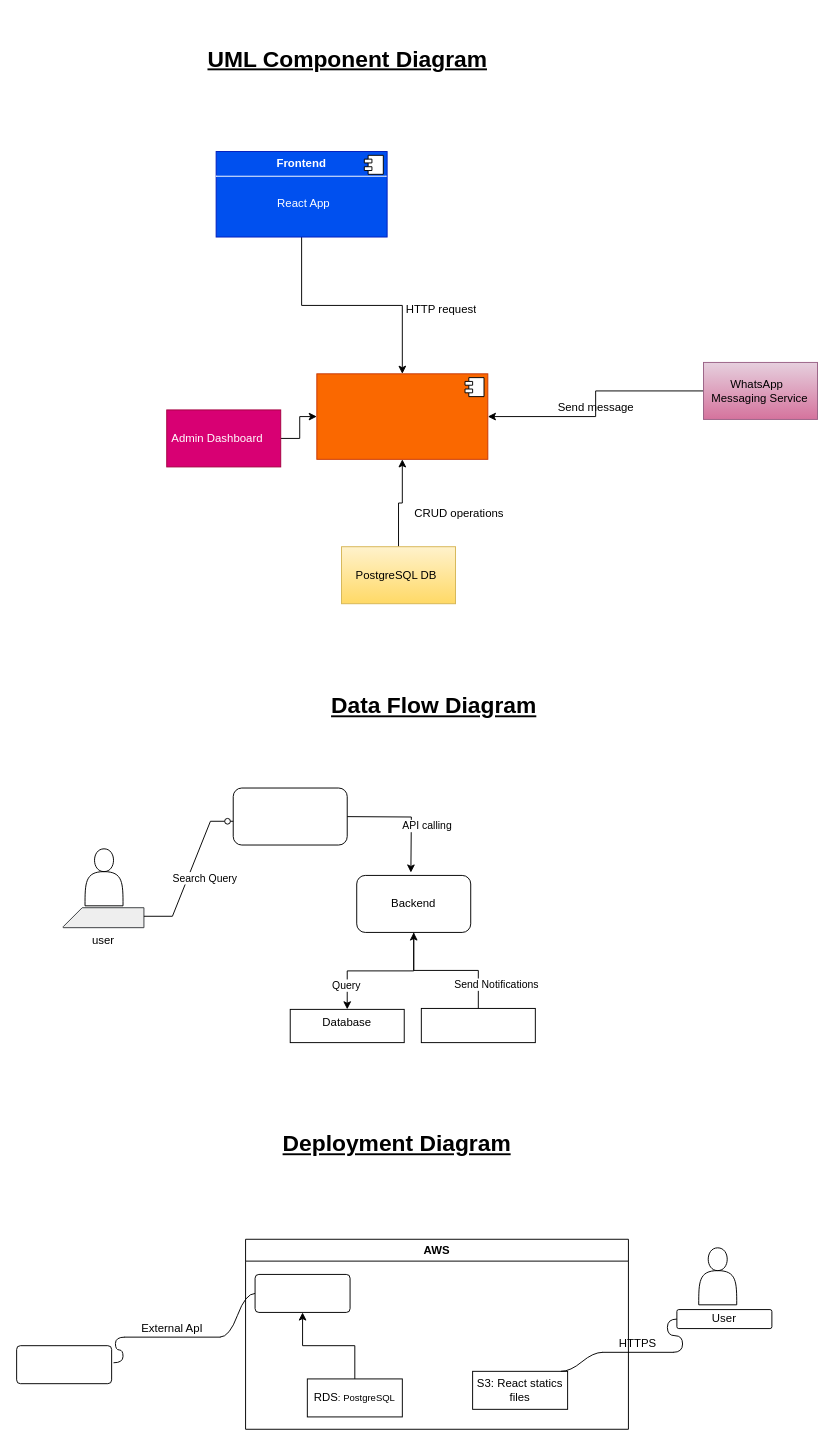
This 834x1446 diagram has some shape labels left out. Each missing label, with the centre of its shape:
Backend Django API: point 402,416
EC2: Django Backend: point 302,1292
Frontend: point 289,816
Twilio Whatsapp: point 64,1364
Whatsapp: point 477,1025
